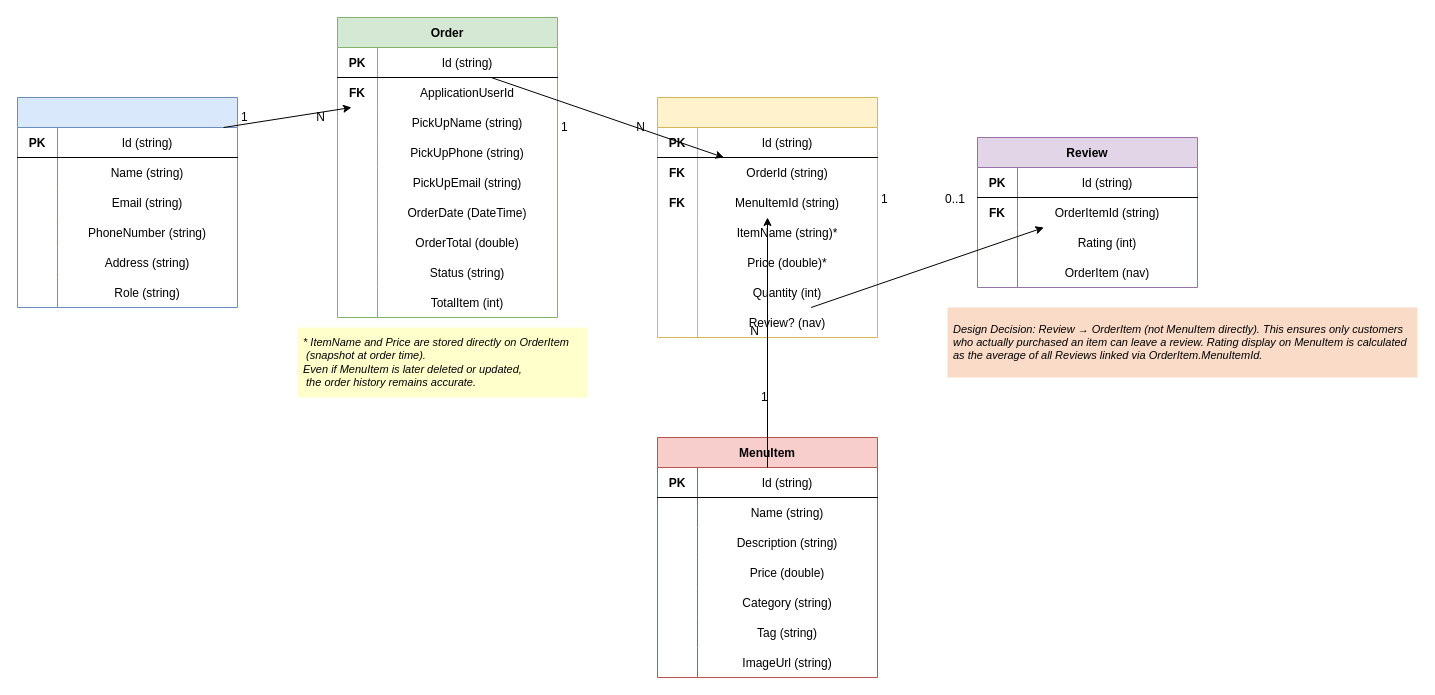
This 1435x695 diagram has some shape labels left out. The box of each missing label's shape, as (x1, y1, x2, y2) in pixels:
ApplicationUser: (16, 96, 238, 308)
OrderItem: (656, 96, 878, 338)
